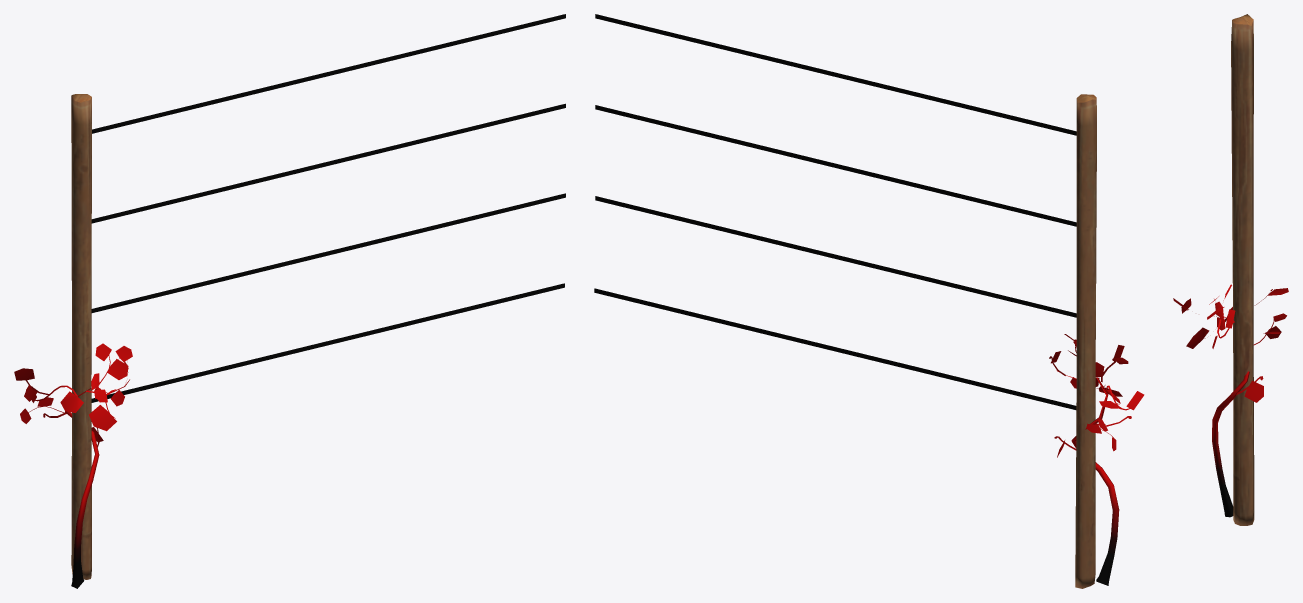
File: SM_Farm_GrapevineSeedling_02.fbx
3 renders of one model, left to right at view 1: azimuth 30°, elevation 25°; view 2: azimuth 150°, elevation 25°; view 3: azimuth 270°, elevation 25°, orthographic. The views are drawn at different scales.
Parts seen in each view (by area): view 1: SM_Farm_GrapevineSeedling_02_LOD0; view 2: SM_Farm_GrapevineSeedling_02_LOD0; view 3: SM_Farm_GrapevineSeedling_02_LOD0.
Boxes of the visible parts, bbox=[...] form: SM_Farm_GrapevineSeedling_02_LOD0: bbox=[14, 14, 565, 588]; SM_Farm_GrapevineSeedling_02_LOD0: bbox=[594, 14, 1144, 588]; SM_Farm_GrapevineSeedling_02_LOD0: bbox=[1173, 14, 1288, 525].
Size of the model in its own units: 168 by 144 by 29.87.
